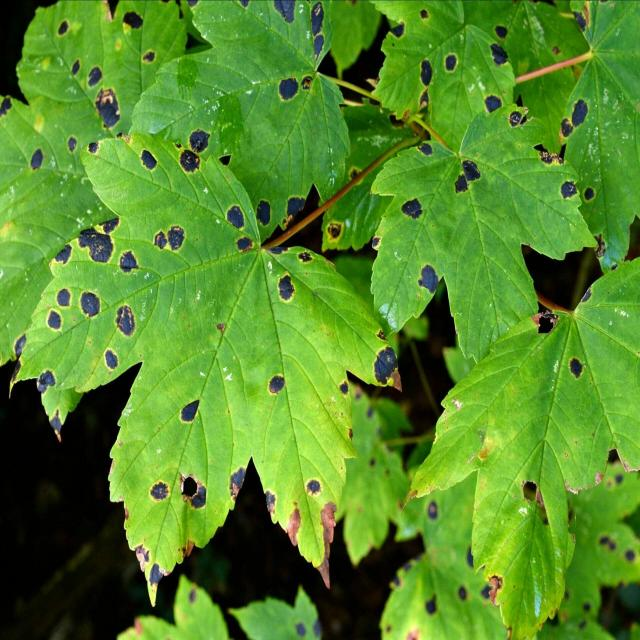Tar_Spot: (21, 0, 616, 635)
